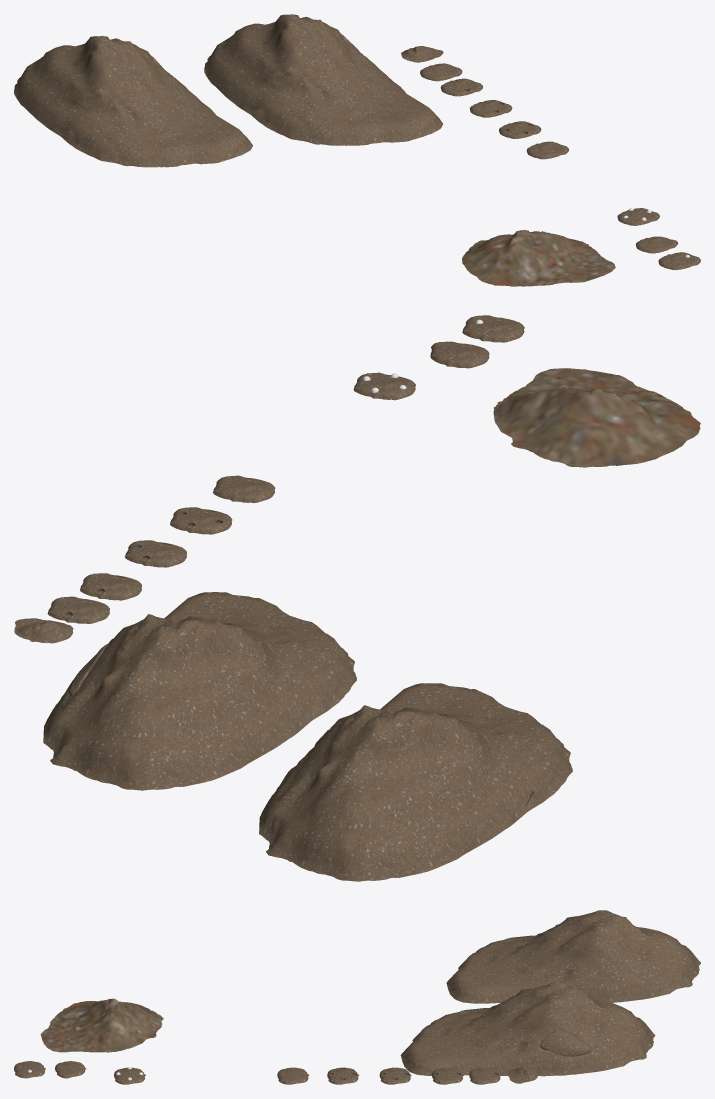
File: mud_patches.fbx
3 renders of one model, top to bottom at view 1: azimuth 30°, elevation 25°; view 2: azimuth 150°, elevation 25°; view 3: azimuth 270°, elevation 25°, orthographic. The views are drawn at different scales.
Visible parts, largest first — view 1: pile1, pile, Construction_Sand_Pile, Construction_Sand_Pile006, Construction_Sand_Pile010, Construction_Sand_Pile007, Construction_Sand_Pile009, Construction_Sand_Pile008, Construction_Sand_Pile004, Construction_Sand_Pile003, Construction_Sand_Pile005, Construction_Sand_Pile002; view 2: pile, pile1, Construction_Sand_Pile, Construction_Sand_Pile008, Construction_Sand_Pile009, Construction_Sand_Pile010, Construction_Sand_Pile006, Construction_Sand_Pile007, Construction_Sand_Pile004, Construction_Sand_Pile003, Construction_Sand_Pile005, Construction_Sand_Pile002; view 3: pile, pile1, Construction_Sand_Pile, sand_patch, Construction_Sand_Pile006, Construction_Sand_Pile009, Construction_Sand_Pile010, Construction_Sand_Pile008, Construction_Sand_Pile007, Construction_Sand_Pile004, Construction_Sand_Pile003, Construction_Sand_Pile005 (+1 smaller).
Part boxes in pixels (bbox=[...]): pile1: bbox=[204, 14, 442, 145]; pile: bbox=[14, 36, 252, 167]; Construction_Sand_Pile: bbox=[462, 229, 615, 286]; Construction_Sand_Pile006: bbox=[420, 63, 462, 81]; Construction_Sand_Pile010: bbox=[526, 141, 568, 159]; Construction_Sand_Pile007: bbox=[440, 78, 482, 96]; Construction_Sand_Pile009: bbox=[499, 121, 541, 138]; Construction_Sand_Pile008: bbox=[470, 100, 512, 117]; Construction_Sand_Pile004: bbox=[658, 252, 700, 270]; Construction_Sand_Pile003: bbox=[636, 236, 678, 253]; Construction_Sand_Pile005: bbox=[617, 208, 659, 225]; Construction_Sand_Pile002: bbox=[401, 46, 443, 62]; pile: bbox=[259, 683, 572, 881]; pile1: bbox=[43, 592, 356, 790]; Construction_Sand_Pile: bbox=[493, 368, 700, 467]; Construction_Sand_Pile008: bbox=[125, 540, 186, 567]; Construction_Sand_Pile009: bbox=[170, 507, 232, 534]; Construction_Sand_Pile010: bbox=[213, 475, 275, 502]; Construction_Sand_Pile006: bbox=[47, 596, 109, 623]; Construction_Sand_Pile007: bbox=[80, 573, 141, 600]; Construction_Sand_Pile004: bbox=[462, 315, 524, 342]; Construction_Sand_Pile003: bbox=[430, 341, 489, 368]; Construction_Sand_Pile005: bbox=[353, 372, 415, 400]; Construction_Sand_Pile002: bbox=[14, 618, 73, 643]; pile: bbox=[446, 910, 700, 1003]; pile1: bbox=[400, 982, 655, 1076]; Construction_Sand_Pile: bbox=[40, 998, 163, 1052]; sand_patch: bbox=[540, 1030, 591, 1056]; Construction_Sand_Pile006: bbox=[469, 1067, 501, 1084]; Construction_Sand_Pile009: bbox=[327, 1067, 359, 1084]; Construction_Sand_Pile010: bbox=[277, 1067, 309, 1084]; Construction_Sand_Pile008: bbox=[379, 1067, 411, 1084]; Construction_Sand_Pile007: bbox=[432, 1067, 463, 1084]; Construction_Sand_Pile004: bbox=[14, 1061, 45, 1078]; Construction_Sand_Pile003: bbox=[55, 1061, 86, 1078]; Construction_Sand_Pile005: bbox=[114, 1067, 145, 1084].
Bounding box in the file's own units: 17913 × 33146 × 3115.
